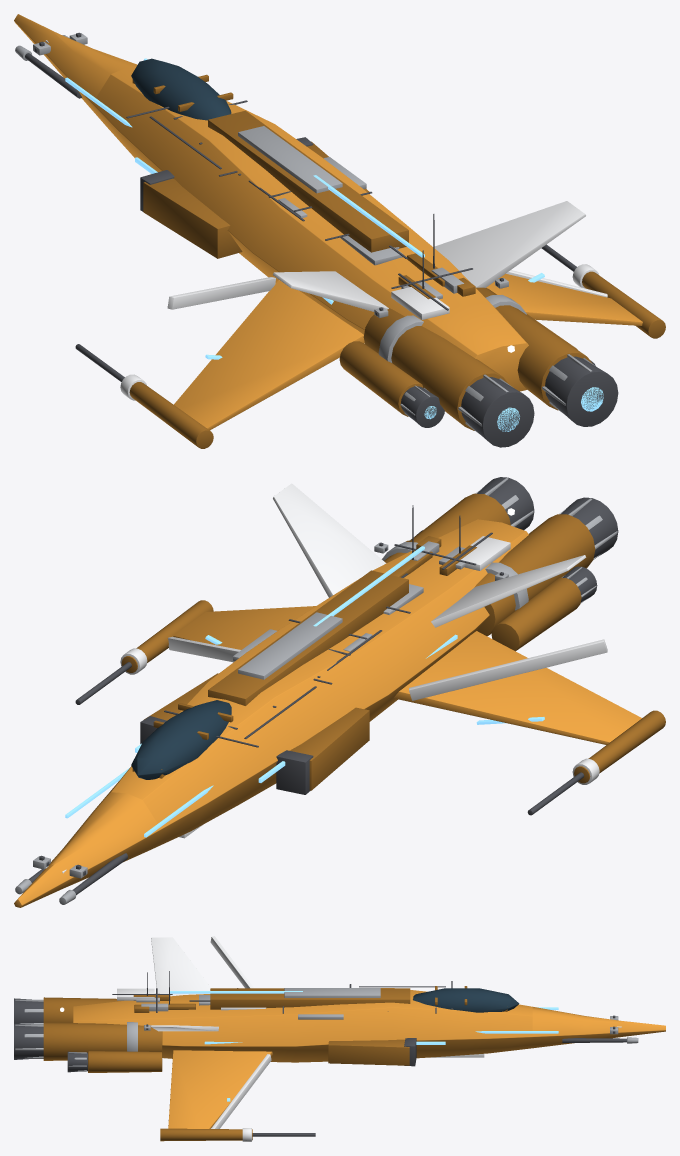
The model's file is ship_vanguard.glb.
3 renders of one model, top to bottom at view 1: azimuth 30°, elevation 25°; view 2: azimuth 150°, elevation 25°; view 3: azimuth 270°, elevation 25°, orthographic. The views are drawn at different scales.
Visible parts, largest first — view 1: ShipVanguard; view 2: ShipVanguard; view 3: ShipVanguard.
Part boxes in pixels (x1,y1,x2,y2): ShipVanguard: [14, 14, 665, 448]; ShipVanguard: [14, 477, 665, 907]; ShipVanguard: [14, 936, 665, 1141].
Bounding box in the file's own units: 9.01 × 3.16 × 17.6.
